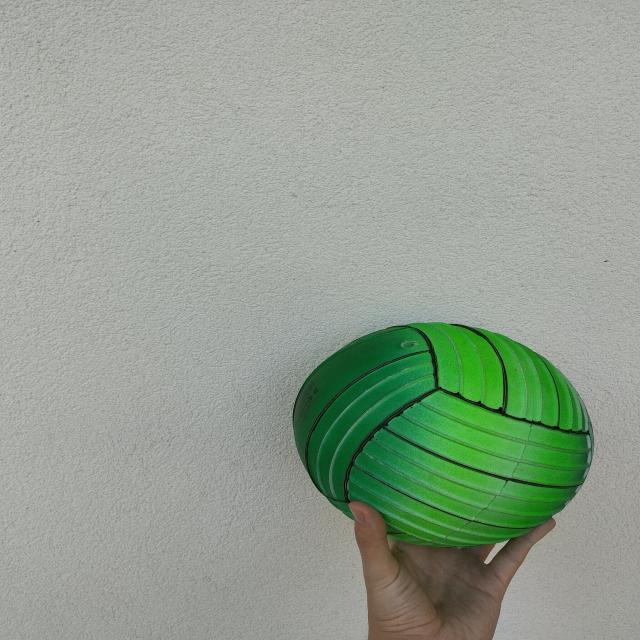zielona: (292, 322, 595, 548)
